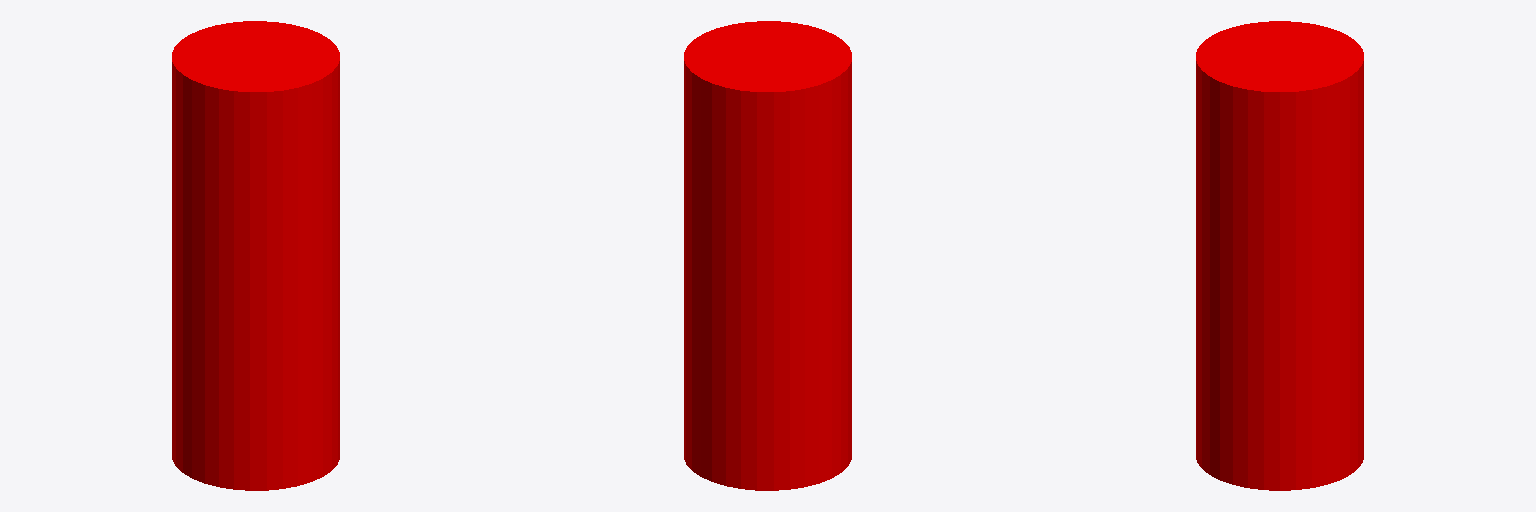
The model's file is Bullet.obj.
The picture shows the model from 3 angles: view 1: azimuth 30°, elevation 25°; view 2: azimuth 150°, elevation 25°; view 3: azimuth 270°, elevation 25°; orthographic projection.
Parts seen in each view (by area): view 1: GEO_Bullet; view 2: GEO_Bullet; view 3: GEO_Bullet.
Part boxes in pixels (x1,y1,x2,y2): GEO_Bullet: (172,21,339,490); GEO_Bullet: (684,21,851,490); GEO_Bullet: (1196,21,1363,490).
Bounding box in the file's own units: 0.1922 × 0.5 × 0.1922.